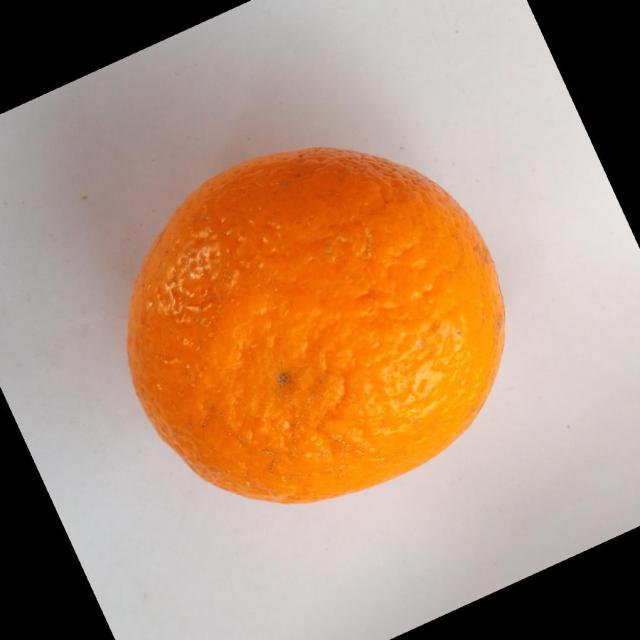fresh orange: (125, 145, 506, 504)
